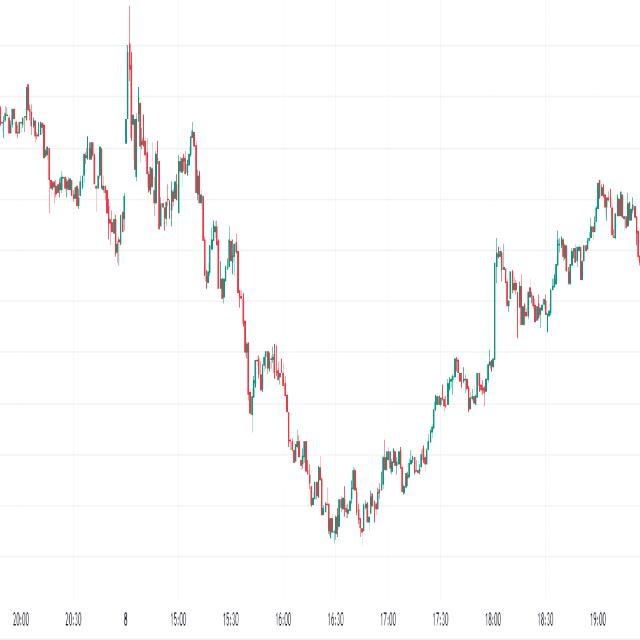Rounding-Bottom: (234, 272, 499, 547)
